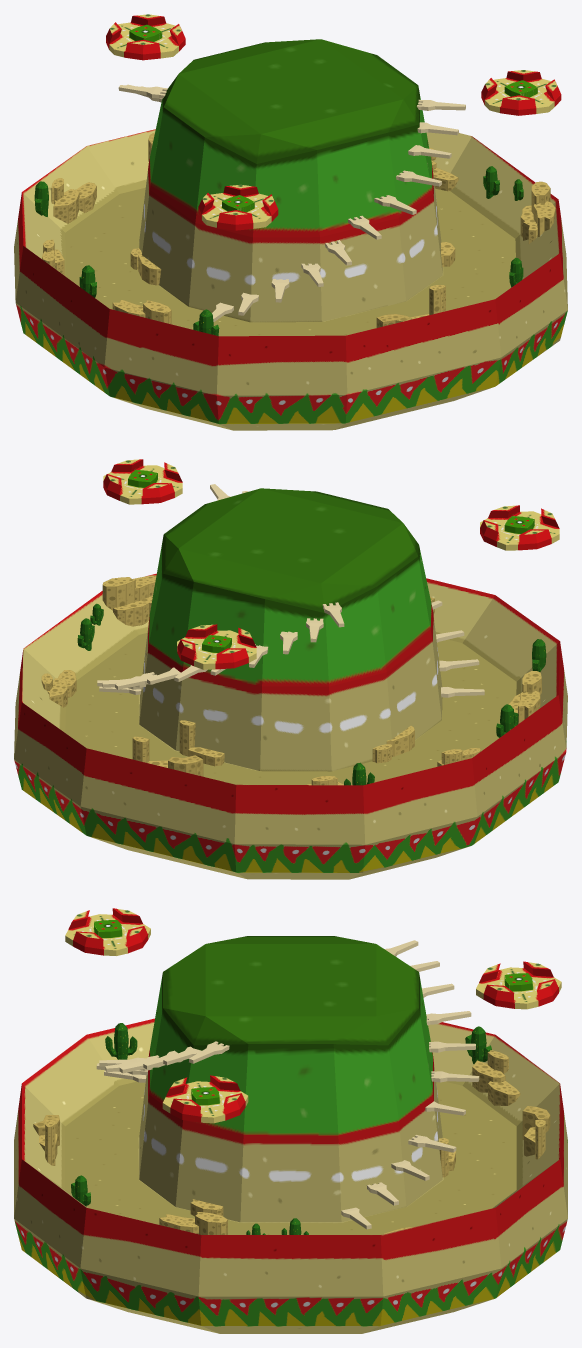
The model's file is LV03_BOSS_ARENA (1).fbx.
The picture shows the model from 3 angles, top to bottom: view 1: azimuth 30°, elevation 25°; view 2: azimuth 150°, elevation 25°; view 3: azimuth 270°, elevation 25°; orthographic projection. The views are drawn at different scales.
Parts seen in each view (by area): view 1: Cube.153, Cube.267, Cube.143; view 2: Cube.153, Cube.267, Cube.143; view 3: Cube.153, Cube.267, Cube.143.
Boxes of the visible parts, left/top/right/bottom form: Cube.153: left=14, top=39, right=567, bottom=430; Cube.267: left=106, top=14, right=561, bottom=230; Cube.143: left=118, top=84, right=465, bottom=321; Cube.153: left=14, top=488, right=567, bottom=879; Cube.267: left=103, top=459, right=559, bottom=669; Cube.143: left=97, top=484, right=484, bottom=697; Cube.153: left=14, top=936, right=567, bottom=1333; Cube.267: left=65, top=908, right=561, bottom=1123; Cube.143: left=96, top=940, right=479, bottom=1229.
Bounding box in the file's own units: 7847 × 4110 × 7847.
Materials: 13 (12 with a texture image).
